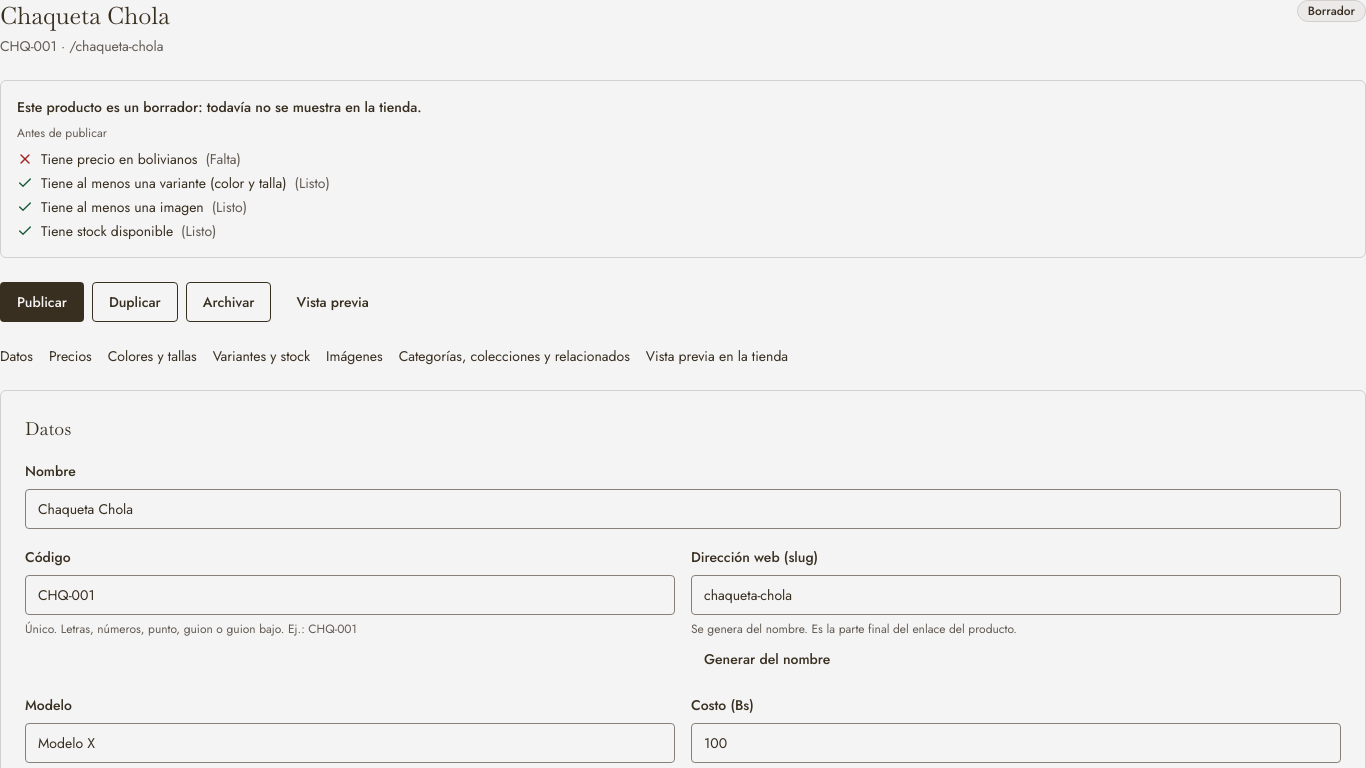
it: Acciones: publicar, borrador, archivar, restaurar, duplicar › sin precio en BOB no se puede confirmar la publicación (bloquea), y lo dice en texto
The image size is (1366, 768).
expect the heading "Chaqueta Chola" is shown: met, box [0,0,170,32]
Click the button "Publicar" at point(42, 302), box [0,282,84,322]
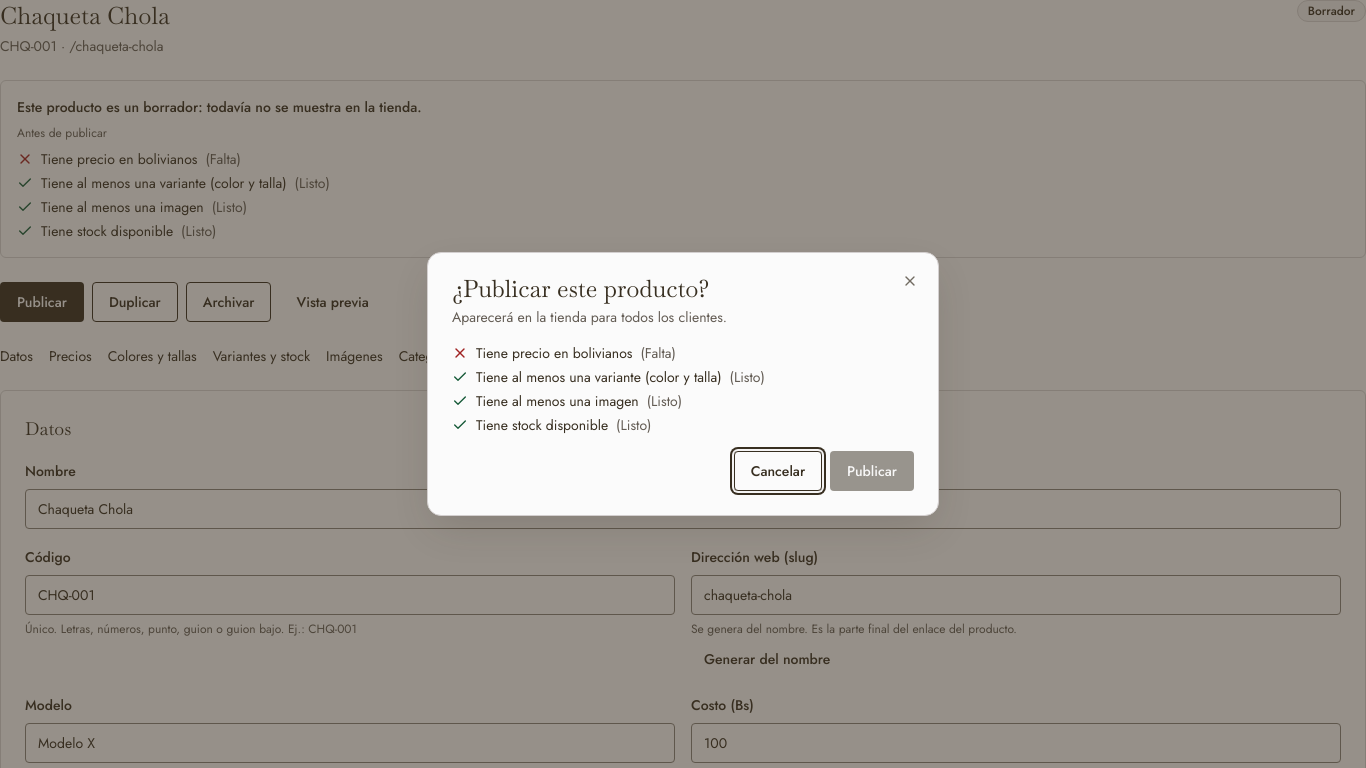
expect the button "Publicar" is disabled: met, box [830,451,914,491]
